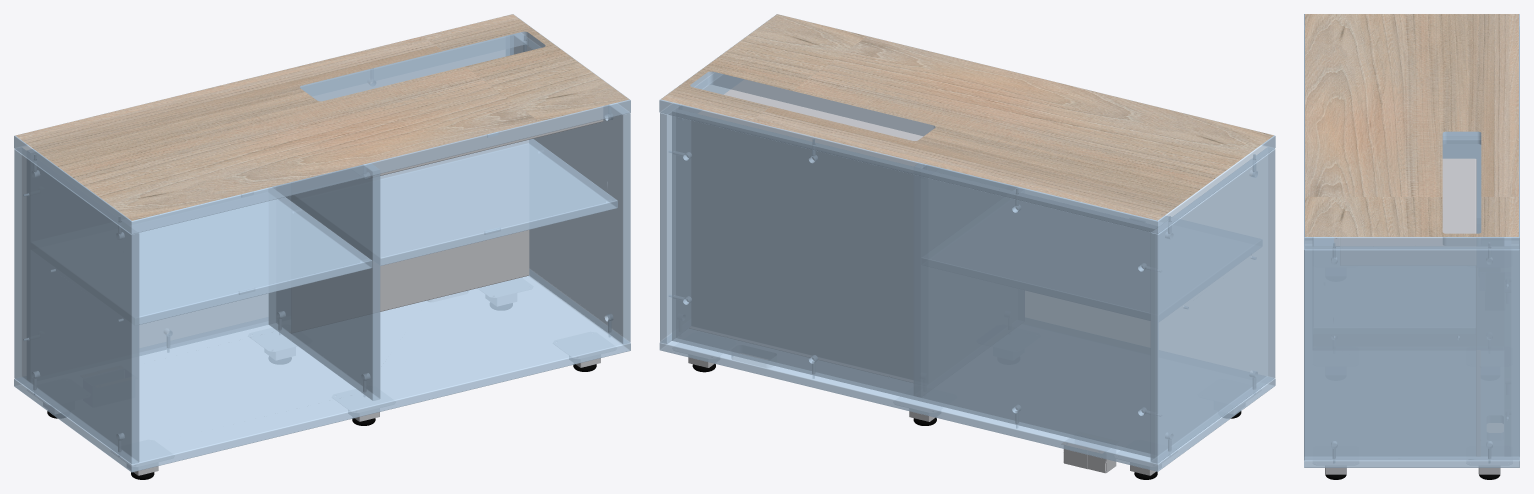
File: LKAL190000_IZ_120.glb
3 renders of one model, left to right at view 1: azimuth 30°, elevation 25°; view 2: azimuth 150°, elevation 25°; view 3: azimuth 270°, elevation 25°, orthographic. The views are drawn at different scales.
Parts seen in each view (by area): view 1: 4 (×4), 52, 56, 48; view 2: 4 (×4), 52, 45; view 3: 4 (×4), 52.
Part boxes in pixels (x1,y1,x2,y2): 4 (×4): (14,14,630,472); 52: (290,106,603,332); 56: (553,332,615,358); 48: (332,389,394,412); 4 (×4): (659,14,1275,471); 52: (690,79,935,382); 45: (1061,438,1116,473); 4 (×4): (1304,14,1519,467); 52: (1334,158,1479,455).
Size of the model in its own units: 1.23 by 0.643 by 0.5.
4 materials, 1 textured.
